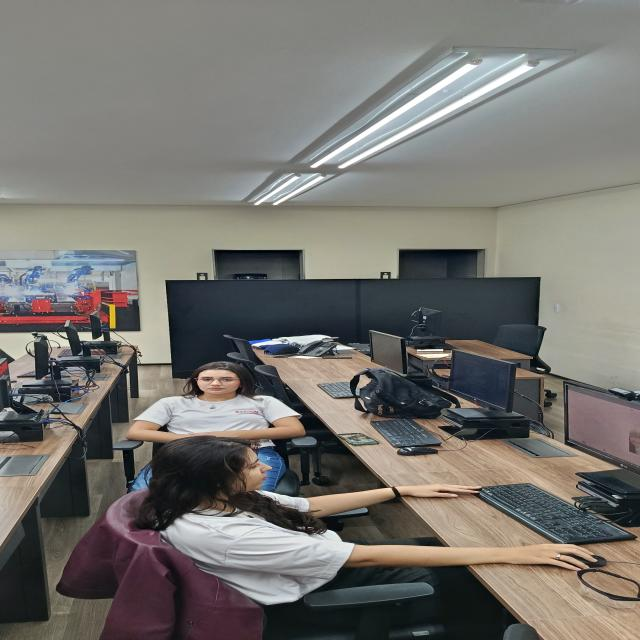sem_oculos: (237, 461, 271, 475), (212, 378, 223, 383)
